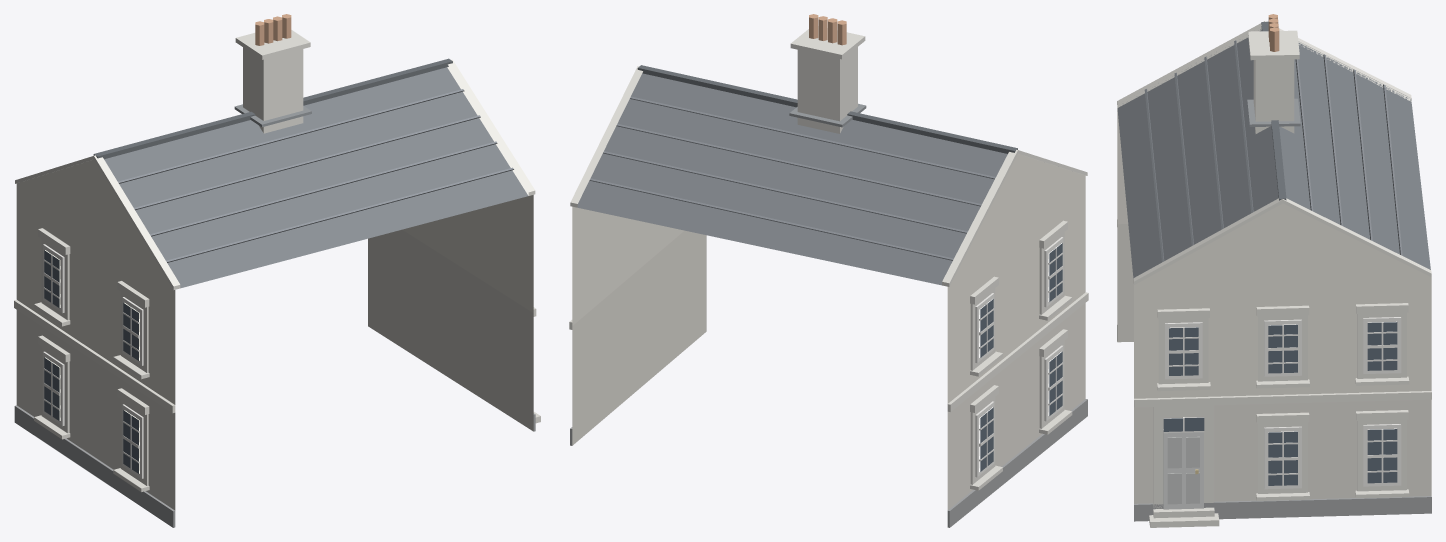
3 renders of one model, left to right at view 1: azimuth 30°, elevation 25°; view 2: azimuth 150°, elevation 25°; view 3: azimuth 270°, elevation 25°, orthographic.
Visible parts, largest first — view 1: slate, harl_grey, harl_cream, string, slate_lt, chim_render, frame, plinth, slate_dk, pot, window_glass_009, window_glass_007 (+2 smaller); view 2: slate, harl_grey, harl_cream, string, slate_lt, chim_render, frame, slate_dk, plinth, pot, window_glass_007, window_glass_009 (+2 smaller); view 3: slate, harl_cream, string, harl_grey, frame, plinth, slate_lt, chim_render, door_cad_p, window_glass_005, door_cad, window_glass_003 (+7 smaller).
Part boxes in pixels (bbox=[...]): slate: bbox=[104, 67, 528, 288]; harl_grey: bbox=[16, 229, 533, 510]; harl_cream: bbox=[16, 159, 533, 404]; string: bbox=[14, 30, 540, 491]; slate_lt: bbox=[118, 89, 513, 262]; chim_render: bbox=[243, 47, 303, 133]; frame: bbox=[43, 244, 143, 478]; plinth: bbox=[14, 405, 535, 527]; slate_dk: bbox=[93, 58, 452, 159]; pot: bbox=[255, 14, 291, 45]; window_glass_009: bbox=[123, 410, 139, 473]; window_glass_007: bbox=[44, 357, 60, 420]; slate: bbox=[577, 73, 1007, 285]; harl_grey: bbox=[572, 230, 1085, 509]; harl_cream: bbox=[572, 154, 1085, 403]; string: bbox=[569, 26, 1088, 490]; slate_lt: bbox=[589, 96, 995, 260]; chim_render: bbox=[797, 47, 857, 133]; frame: bbox=[975, 237, 1063, 477]; slate_dk: bbox=[637, 65, 1017, 153]; plinth: bbox=[570, 399, 1087, 527]; pot: bbox=[809, 14, 846, 45]; window_glass_007: bbox=[979, 407, 993, 471]; window_glass_009: bbox=[1048, 351, 1062, 415]; slate: bbox=[1117, 29, 1430, 278]; harl_cream: bbox=[1117, 108, 1431, 398]; string: bbox=[1117, 21, 1431, 527]; harl_grey: bbox=[1117, 224, 1431, 503]; frame: bbox=[1163, 317, 1401, 489]; plinth: bbox=[1117, 325, 1431, 521]; slate_lt: bbox=[1144, 40, 1402, 262]; chim_render: bbox=[1253, 59, 1294, 133]; door_cad_p: bbox=[1167, 436, 1199, 504]; window_glass_005: bbox=[1367, 428, 1397, 483]; door_cad: bbox=[1163, 432, 1203, 509]; window_glass_003: bbox=[1268, 431, 1297, 485].
Size of the model in its own units: 11.3 by 10.99 by 7.74.
